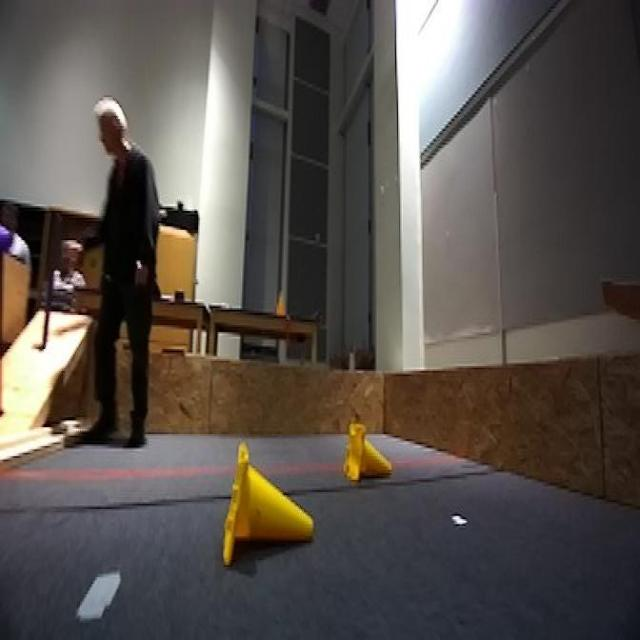frc_cone: (218, 446, 316, 565), (348, 424, 395, 485)
frc_cube: (0, 218, 19, 257)
